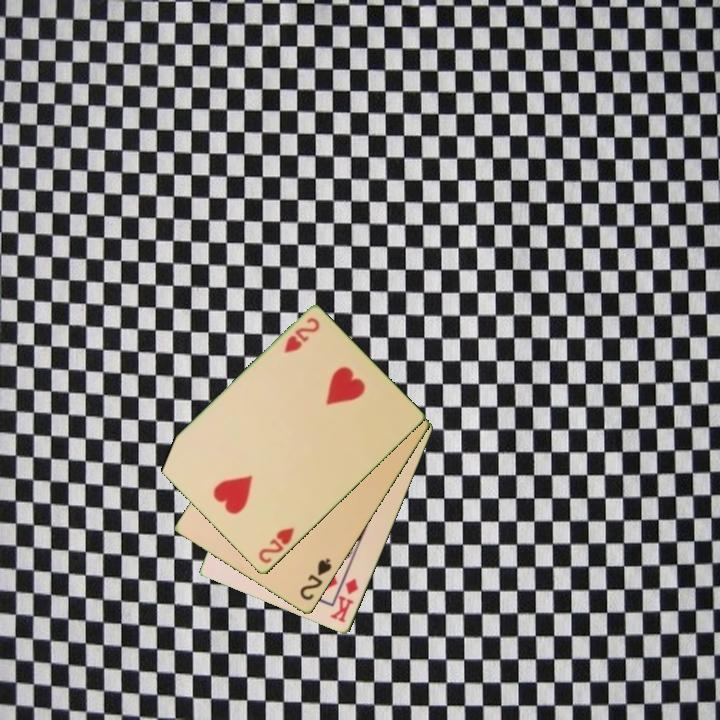2h: (255, 524, 297, 567), (281, 314, 322, 356)
2s: (296, 555, 335, 604)
Kd: (327, 575, 361, 626)
